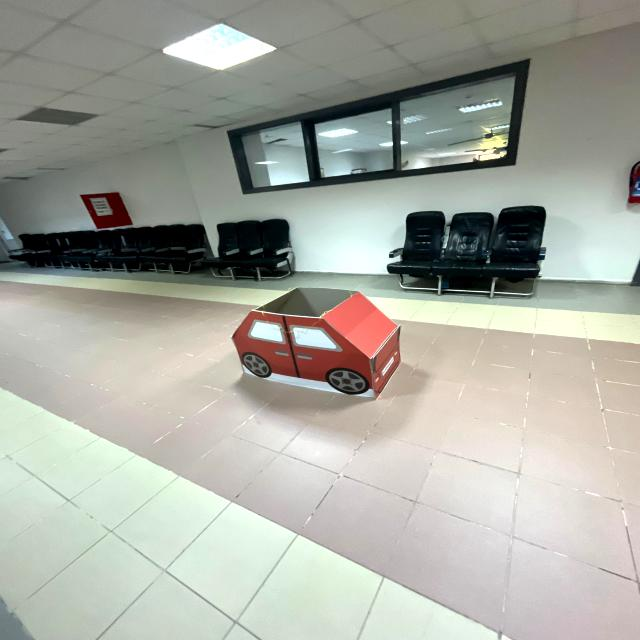red_car: (216, 279, 424, 409)
